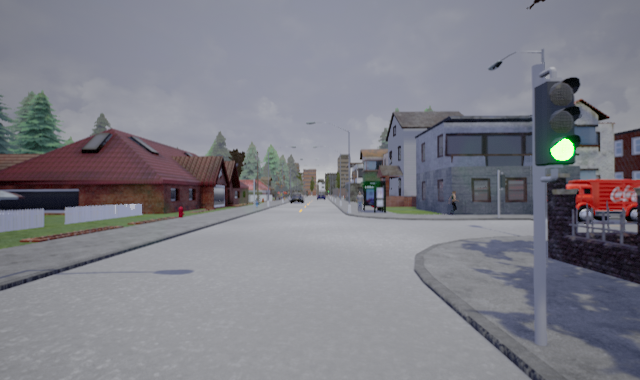pedestrian: (445, 189, 459, 215), (356, 187, 364, 213)
vehicle: (542, 178, 639, 223), (287, 192, 305, 204)
